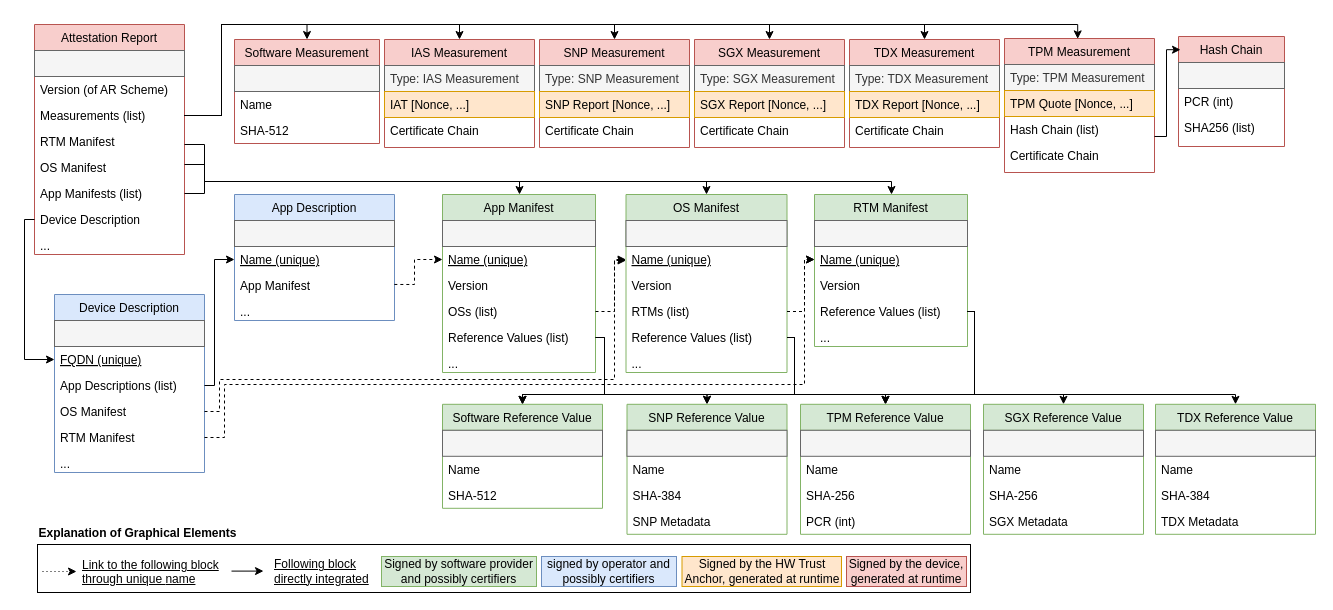
Image size: 1333x610. Some labels were removed from this diagram. Each missing label, with the centre of its shape:
Type: App Description: point (314, 233)
Type: App Manifest: point (519, 233)
Type: Attestation Report: point (109, 63)
Type: Device Description: point (129, 333)
Type: Hash Chain: point (1231, 75)
Type: OS Manifest: point (706, 233)
Type: RTM Manifest: point (891, 233)
Type: SGX Reference Value: point (1063, 442)
Type: SNP Reference Value: point (706, 442)
Type: SW Measurement: point (307, 78)
Type: SW Reference Value: point (522, 442)
Type: TDX Reference Value: point (1235, 442)
Type: TPM Reference Value: point (885, 442)
